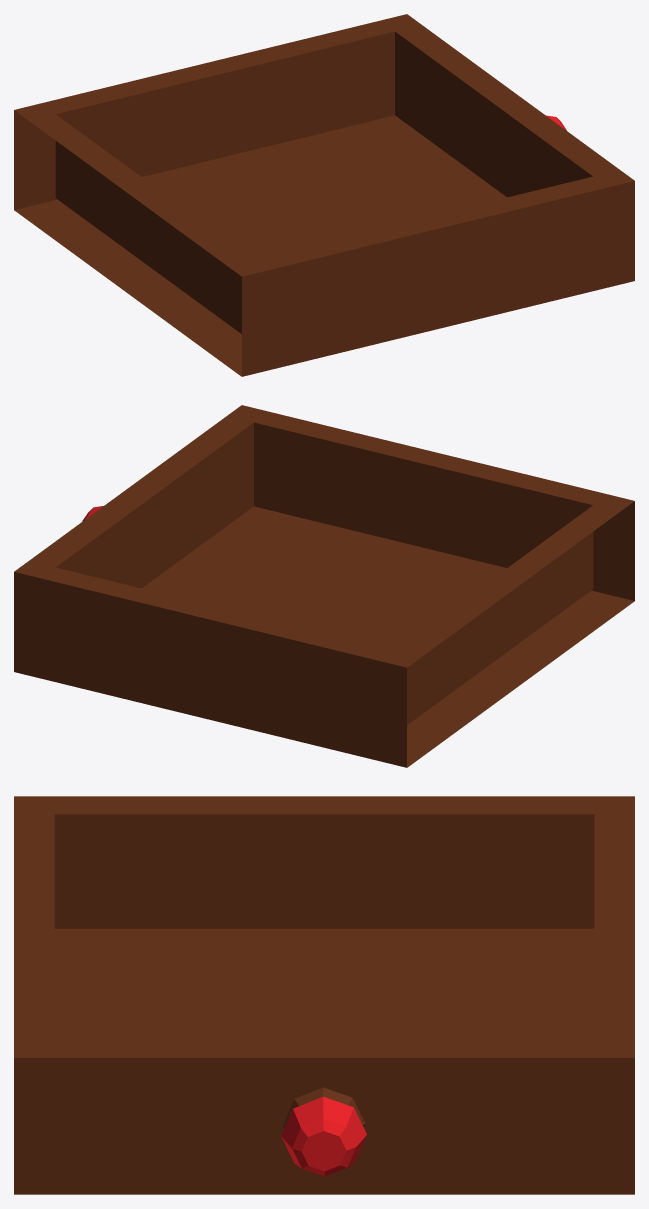
File: Tumba2.fbx
3 views of the same model, one above another, from view 1: azimuth 30°, elevation 25°; view 2: azimuth 150°, elevation 25°; view 3: azimuth 270°, elevation 25° (orthographic). The views are drawn at different scales.
Parts seen in each view (by area): view 1: Cube.004; view 2: Cube.004; view 3: Cube.004.
Part boxes in pixels (bbox=[...]): Cube.004: bbox=[14, 14, 634, 376]; Cube.004: bbox=[14, 405, 634, 767]; Cube.004: bbox=[14, 796, 634, 1194].
Bounding box in the file's own units: 213 × 47.01 × 194.
